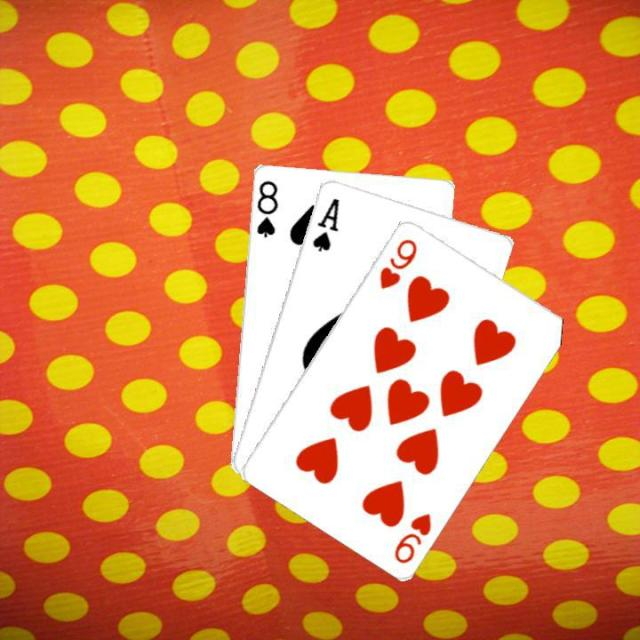8S: (252, 176, 279, 239)
9H: (375, 233, 420, 290), (390, 508, 434, 566)
AS: (308, 193, 342, 252)
